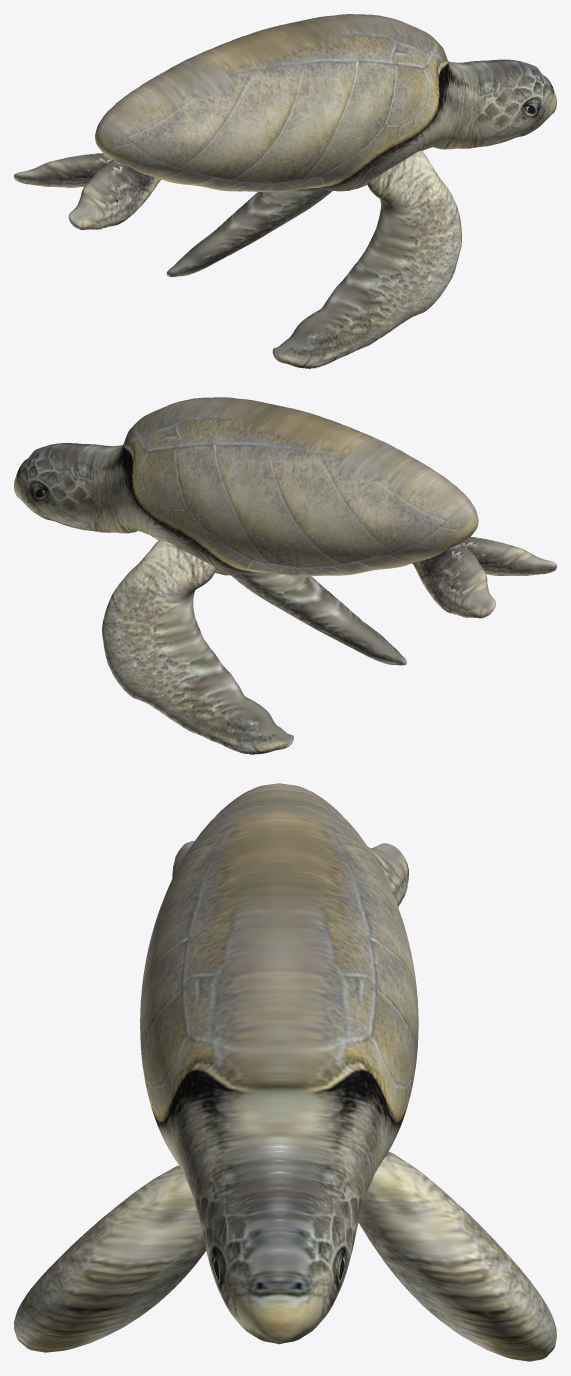
Rendered from oliveridleyturtle.glb.
The picture shows the model from 3 angles, top to bottom: view 1: azimuth 30°, elevation 25°; view 2: azimuth 150°, elevation 25°; view 3: azimuth 270°, elevation 25°; orthographic projection. The views are drawn at different scales.
Parts seen in each view (by area): view 1: mm_frame (46); view 2: mm_frame (46); view 3: mm_frame (46).
Part boxes in pixels (box(x1,y1,x2,y2)): mm_frame (46): box(14, 14, 556, 368); mm_frame (46): box(14, 397, 556, 754); mm_frame (46): box(14, 783, 556, 1361).
Bounding box in the file's own units: 9.59 × 5.02 × 5.01.
Materials: 1 (1 with a texture image).
